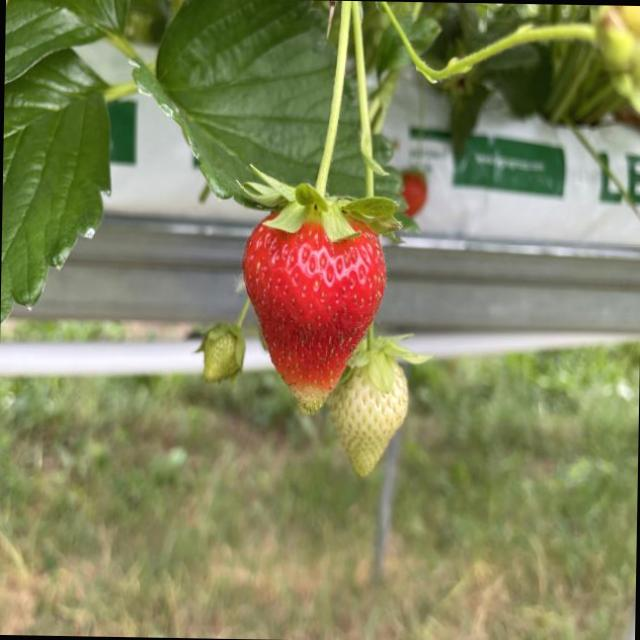stem: (240, 0, 398, 241), (343, 324, 425, 392)
strawberryNR: (330, 369, 404, 476)
strawberryR: (242, 222, 383, 413)
